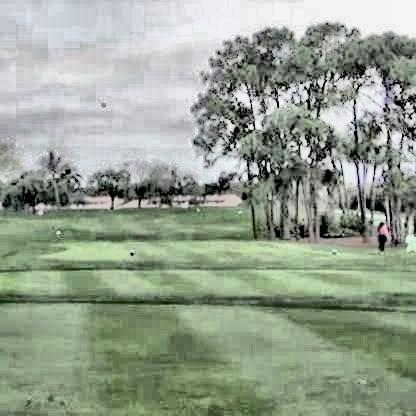golfball: (100, 100, 106, 108)
